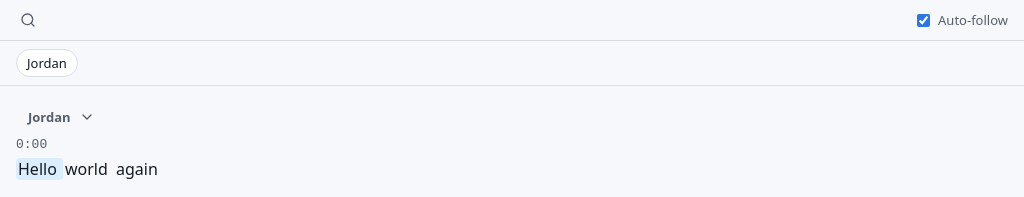
Test case: TranscriptViewer › drag-selects a token range and shows text + in/out timecodes
Press the mouse on the text "Hello": (40, 169) [16,158,63,180]
Hover over the text "world": (86, 169) [65,158,108,180]
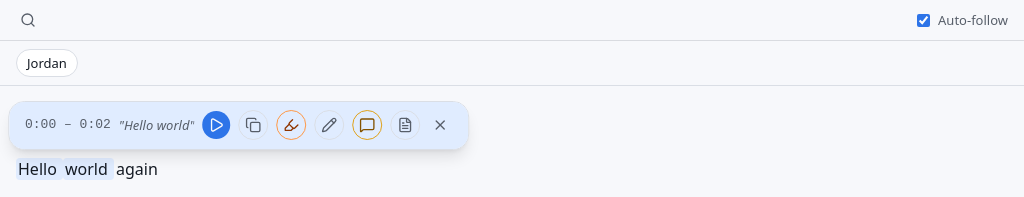
Hover over the text "again": (137, 169) [114,158,160,180]
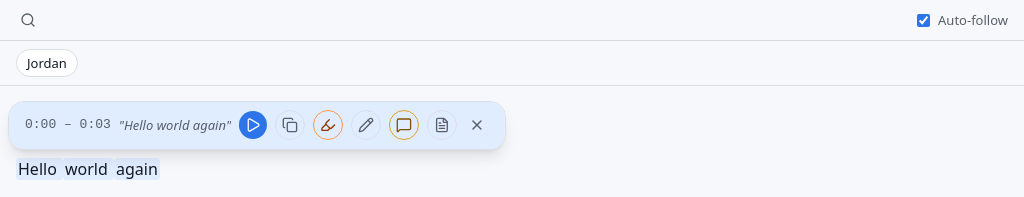
expect the text "\"Hello world again\"" is shown: met, box [119,116,231,134]
expect the text "0:00 – 0:03" is shown: met, box [25,116,111,134]
